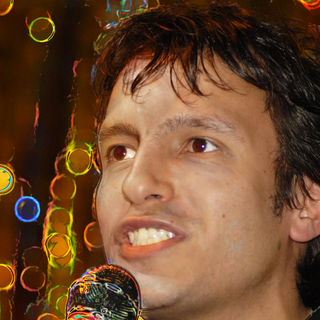eye: (176, 134, 223, 160), (99, 142, 139, 164)
